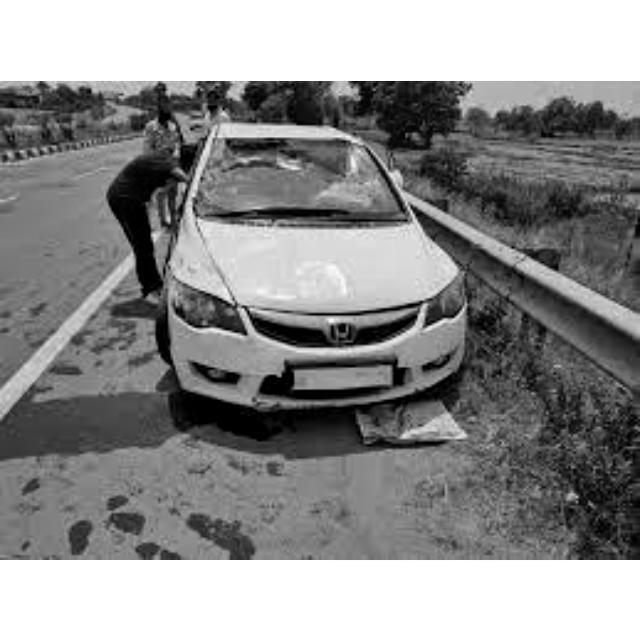Front-windscreen-damage: (198, 132, 410, 230)
bonnet-dent: (201, 227, 435, 320)
front-bumper-dent: (213, 342, 445, 418)
